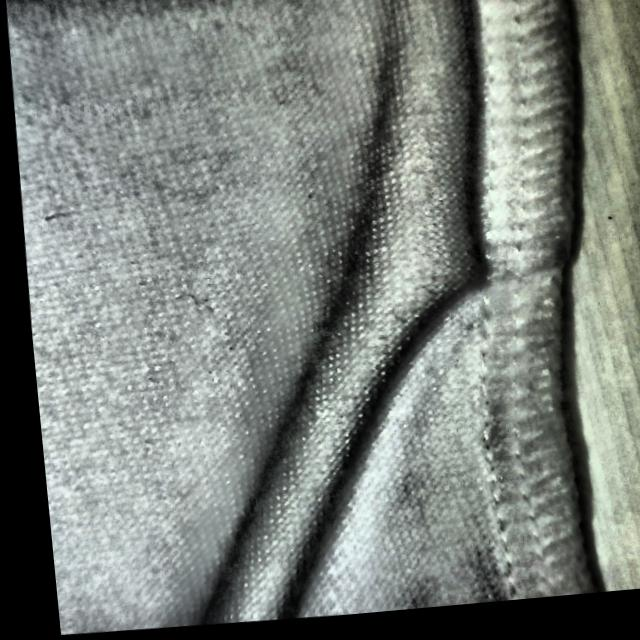seam: (326, 156, 584, 393)
